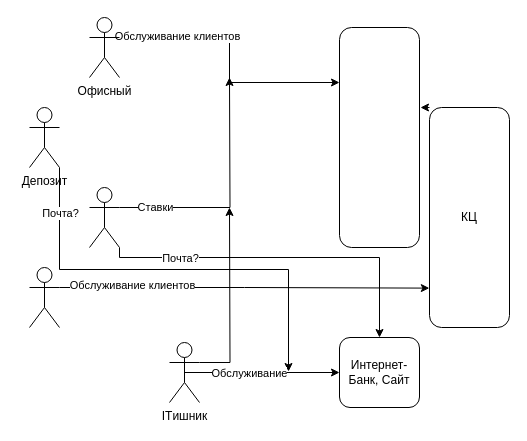
This 527x441 diagram has some shape labels left out. Here are the shapes that lost their labels. From the top down, the centre of each, then its label:
(379,137): АБС
(104,217): Кредит
(44,297): Оператор
